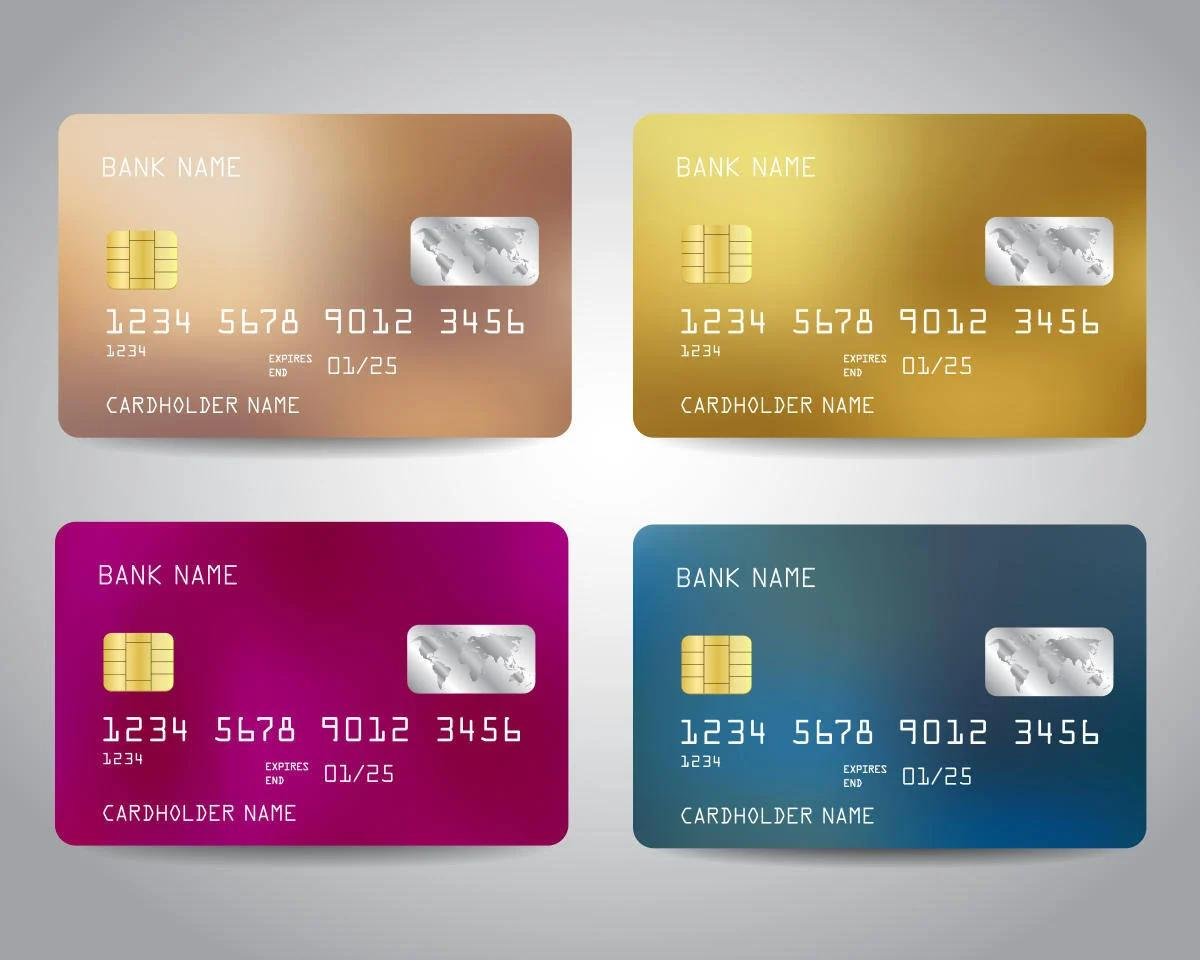Credit_card: (633, 525, 1145, 850), (55, 522, 568, 845), (633, 115, 1145, 438), (59, 115, 571, 438)
